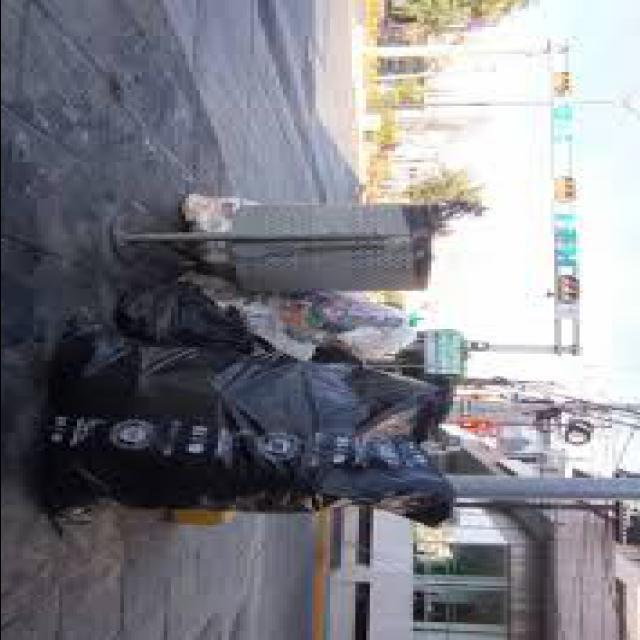Trashbag: (56, 358, 449, 523), (125, 282, 252, 353)
